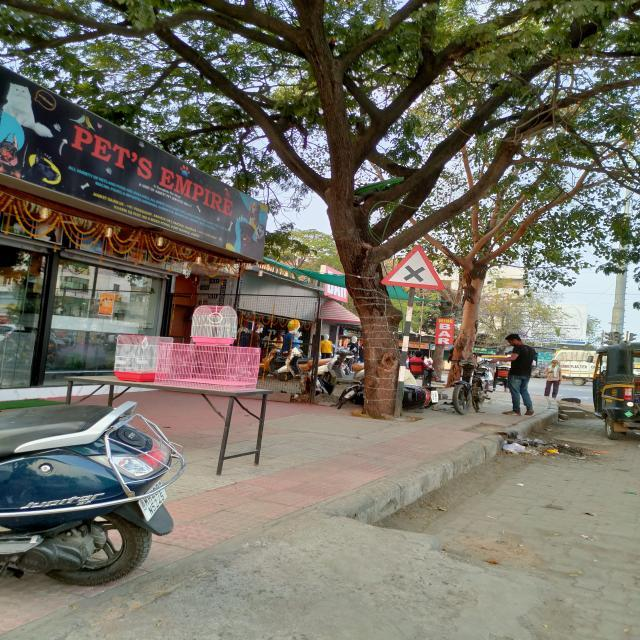cross road: (380, 243, 446, 292)
